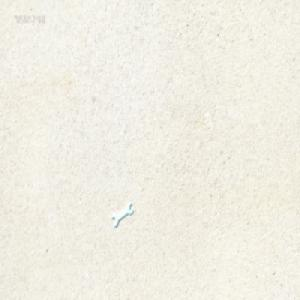Wrench: (112, 200, 134, 226)
